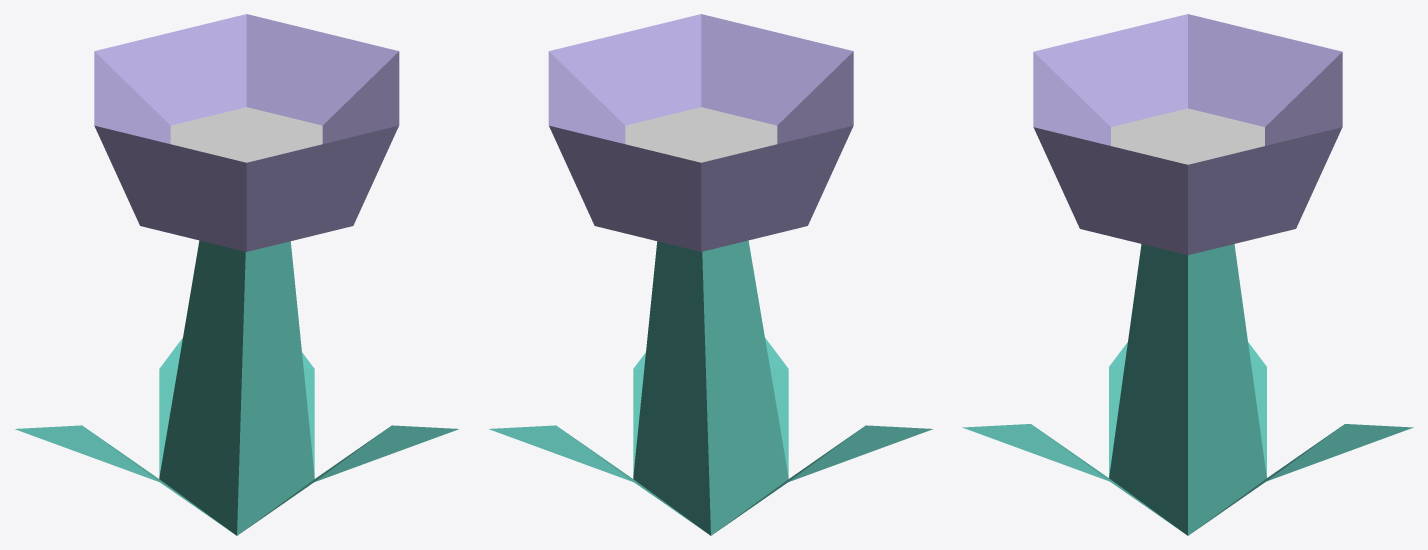
The model's file is flower_purpleC.glb.
The picture shows the model from 3 angles, left to right: view 1: azimuth 30°, elevation 25°; view 2: azimuth 150°, elevation 25°; view 3: azimuth 270°, elevation 25°; orthographic projection.
Visible parts, largest first — view 1: flower_purpleC; view 2: flower_purpleC; view 3: flower_purpleC.
Part boxes in pixels (<box>): flower_purpleC: <box>15,14,458,535</box>; flower_purpleC: <box>489,14,932,535</box>; flower_purpleC: <box>962,14,1413,535</box>.
Bounding box in the file's own units: 0.1806 × 0.1825 × 0.1811.
